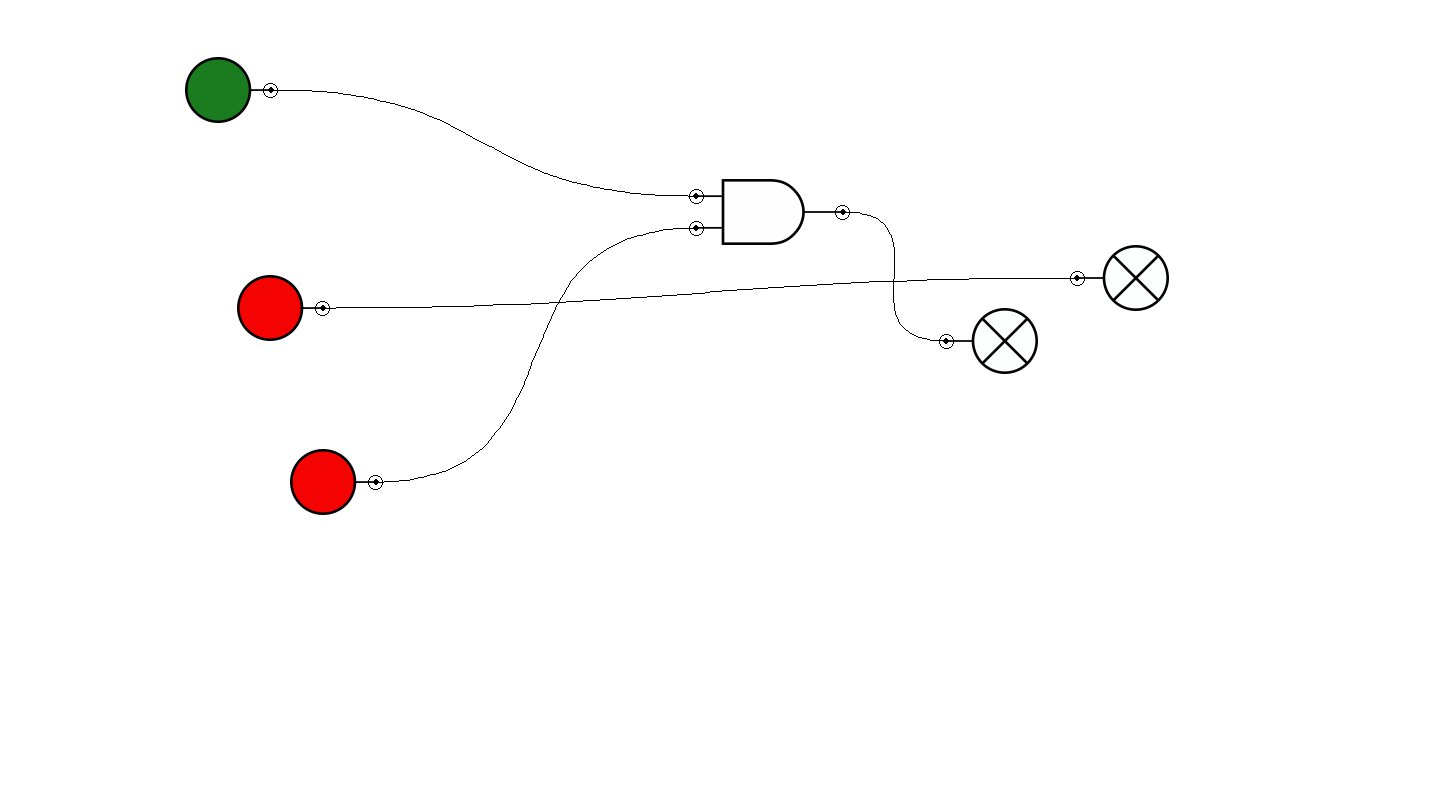and: (689, 179, 850, 245)
bulb: (1070, 245, 1169, 311), (939, 308, 1038, 374)
switch_False: (290, 449, 383, 515), (237, 275, 330, 341)
switch_True: (185, 57, 278, 123)
